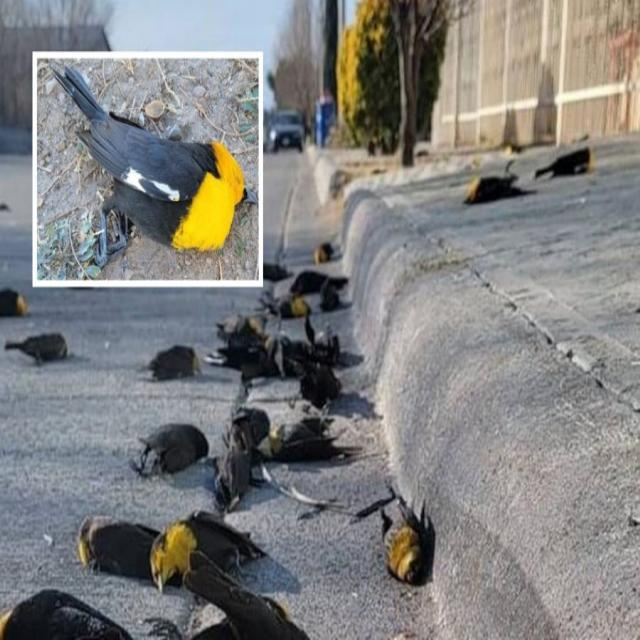Bangkai Burung: (50, 49, 264, 292), (67, 505, 308, 640), (337, 480, 499, 608), (207, 384, 355, 501), (266, 217, 353, 397), (131, 404, 208, 491), (454, 142, 533, 203), (538, 118, 599, 196)
